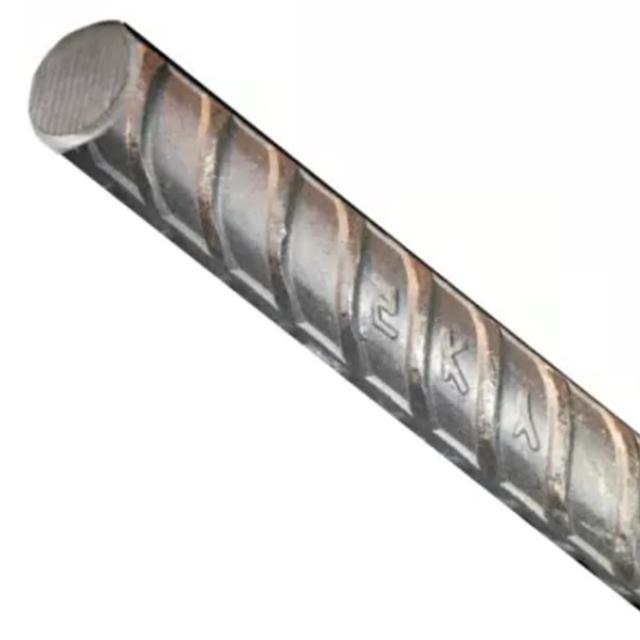Rebar: (15, 14, 159, 158)
